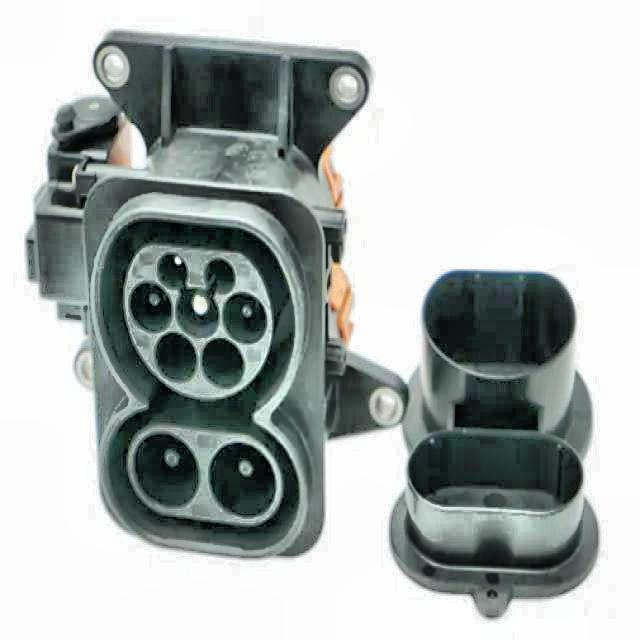inlet: (123, 244, 273, 400)
inlet-above-left: (157, 253, 188, 289)
inlet-above-right: (204, 257, 235, 295)
inlet-below-left: (156, 332, 198, 382)
inlet-below-right: (201, 338, 245, 389)
inlet-center: (176, 287, 220, 337)
inlet-center-left: (129, 281, 172, 332)
inlet-center-right: (223, 292, 267, 344)
